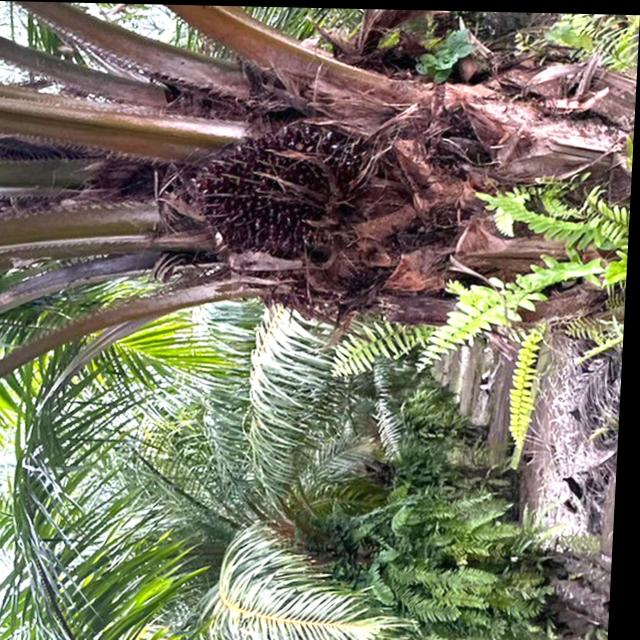ripe: (177, 110, 366, 277)
